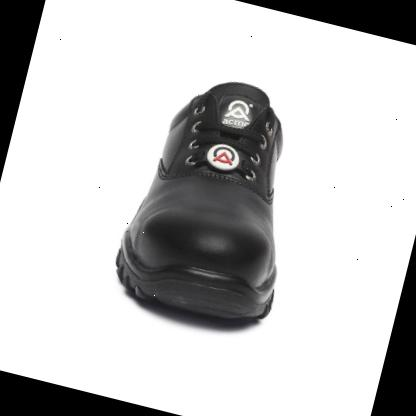bota: (104, 59, 327, 340)
